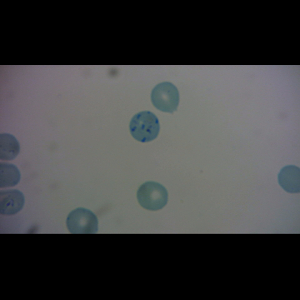aggregate reticulocyte: (128, 110, 161, 143)
erythrocyte: (136, 180, 170, 212), (150, 81, 181, 115)
punctate reticulocyte: (65, 207, 99, 234)
